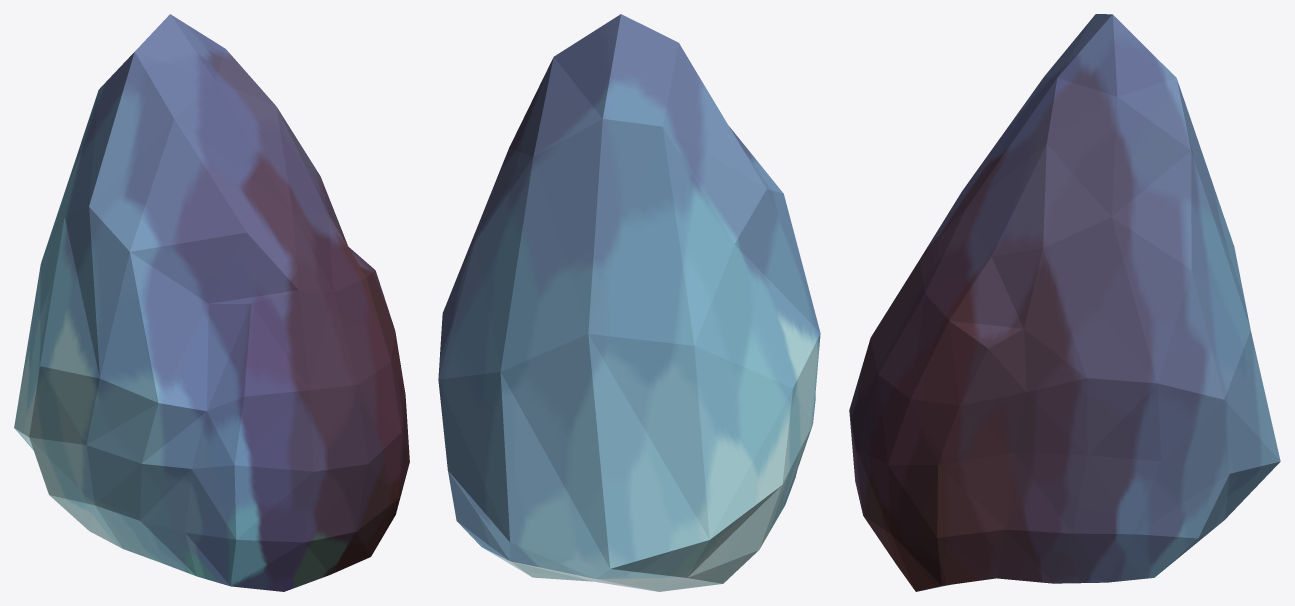
Rendered from rockMediumBleu.fbx.
3 views of the same model, side by side, from view 1: azimuth 30°, elevation 25°; view 2: azimuth 150°, elevation 25°; view 3: azimuth 270°, elevation 25° (orthographic). The views are drawn at different scales.
Parts seen in each view (by area): view 1: rockMediumBleu; view 2: rockMediumBleu; view 3: rockMediumBleu.
Part boxes in pixels (bbox=[...]): rockMediumBleu: bbox=[14, 14, 409, 591]; rockMediumBleu: bbox=[438, 14, 820, 591]; rockMediumBleu: bbox=[849, 14, 1280, 591].
Size of the model in its own units: 1.19 by 1.93 by 1.42.
